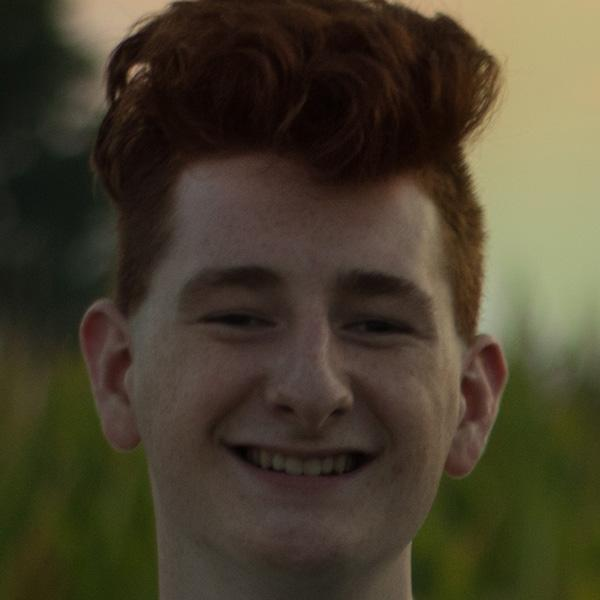Eyes: (185, 287, 279, 345), (329, 296, 421, 355)
